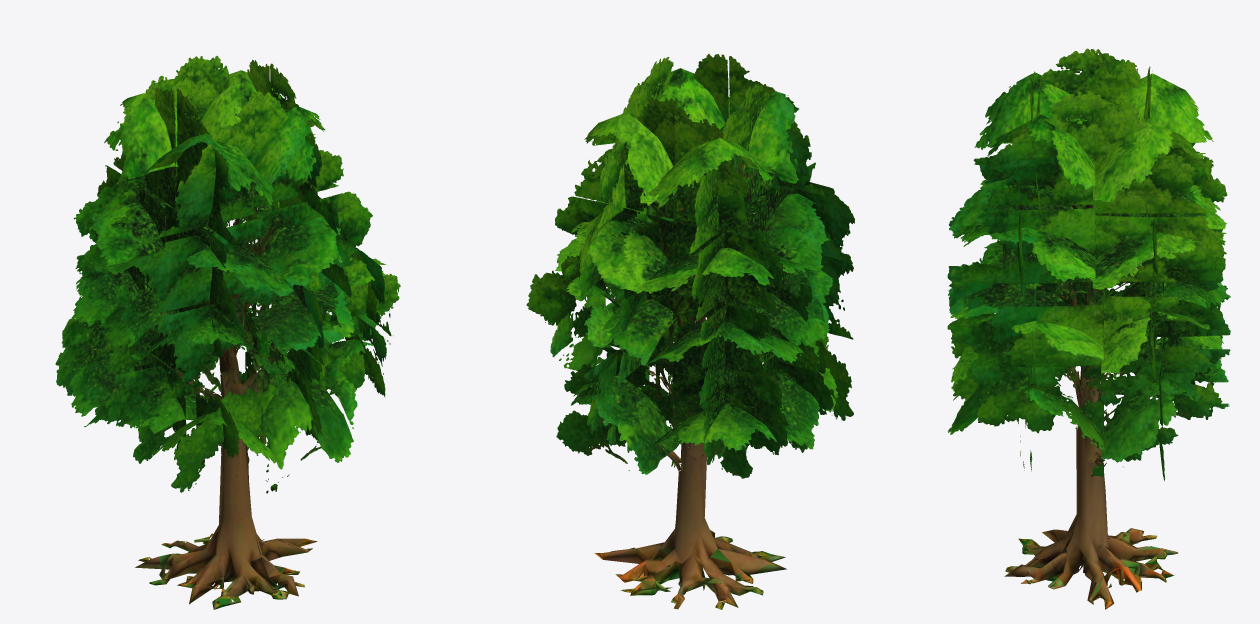
The model's file is tree-4815-mid.glb.
3 views of the same model, side by side, from view 1: azimuth 30°, elevation 25°; view 2: azimuth 150°, elevation 25°; view 3: azimuth 270°, elevation 25° (orthographic).
Parts seen in each view (by area): view 1: Foliage, Wood; view 2: Foliage, Wood; view 3: Foliage, Wood.
Part boxes in pixels (x1,y1,x2,y2): Foliage: (55, 56, 400, 493); Wood: (135, 182, 317, 609); Foliage: (526, 54, 854, 478); Wood: (594, 275, 786, 609); Foliage: (947, 48, 1230, 481); Wood: (1004, 205, 1178, 609).
Bounding box in the file's own units: 7.66 × 12.21 × 6.89.
2 materials, 2 textured.
